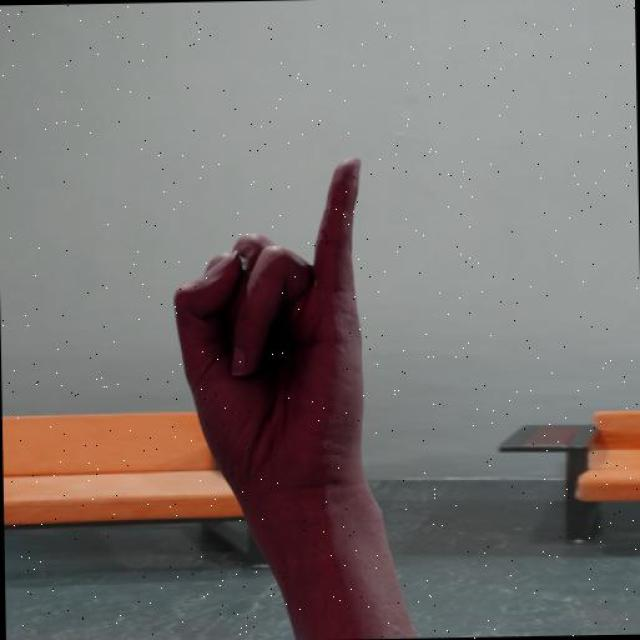I: (141, 103, 473, 572)
